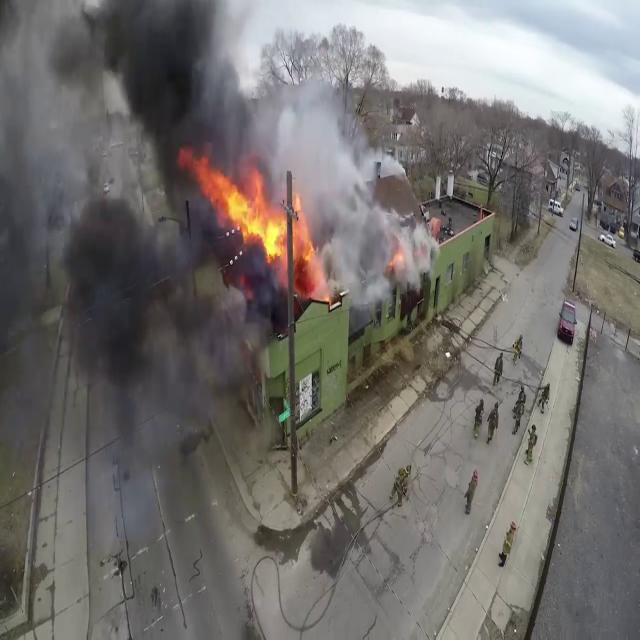Fire: (201, 160, 319, 279)
Smoke: (0, 1, 260, 490), (276, 89, 429, 317)
